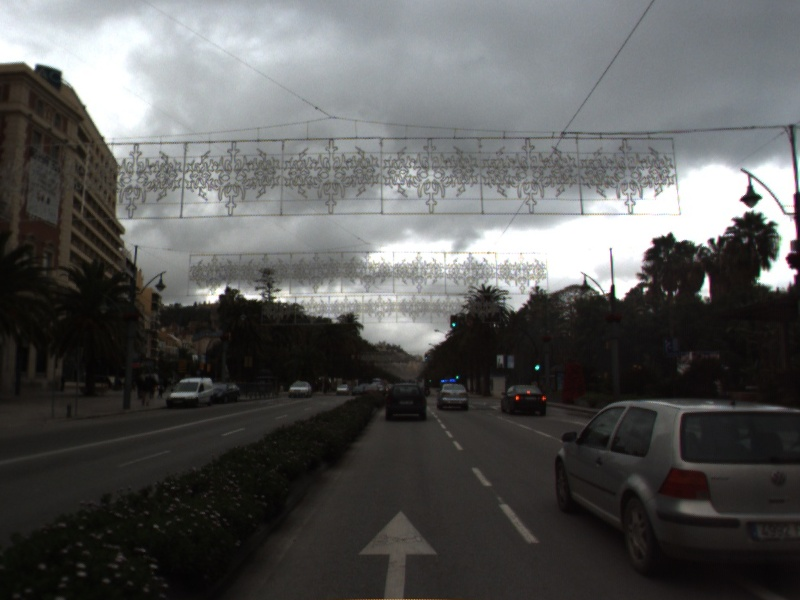STRAIGHT: (355, 506, 442, 600)
